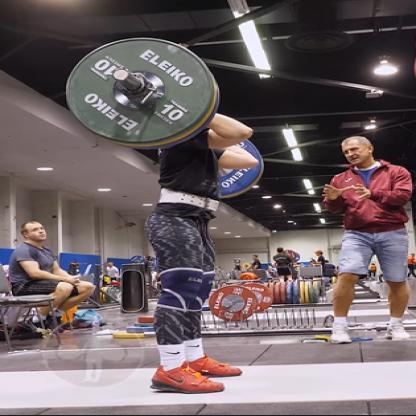barbell: (64, 36, 265, 200), (207, 282, 275, 320)
